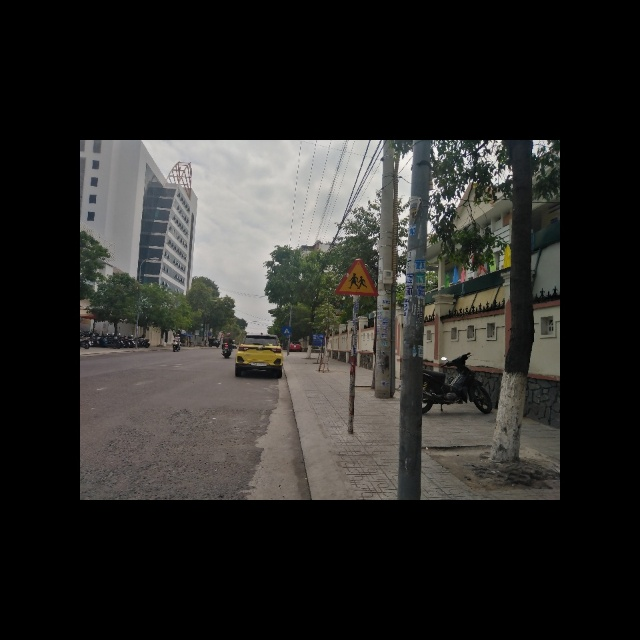Trẻ em ngang qua: (334, 258, 378, 295)
Đường dành cho người đi bộ: (282, 326, 292, 334)
